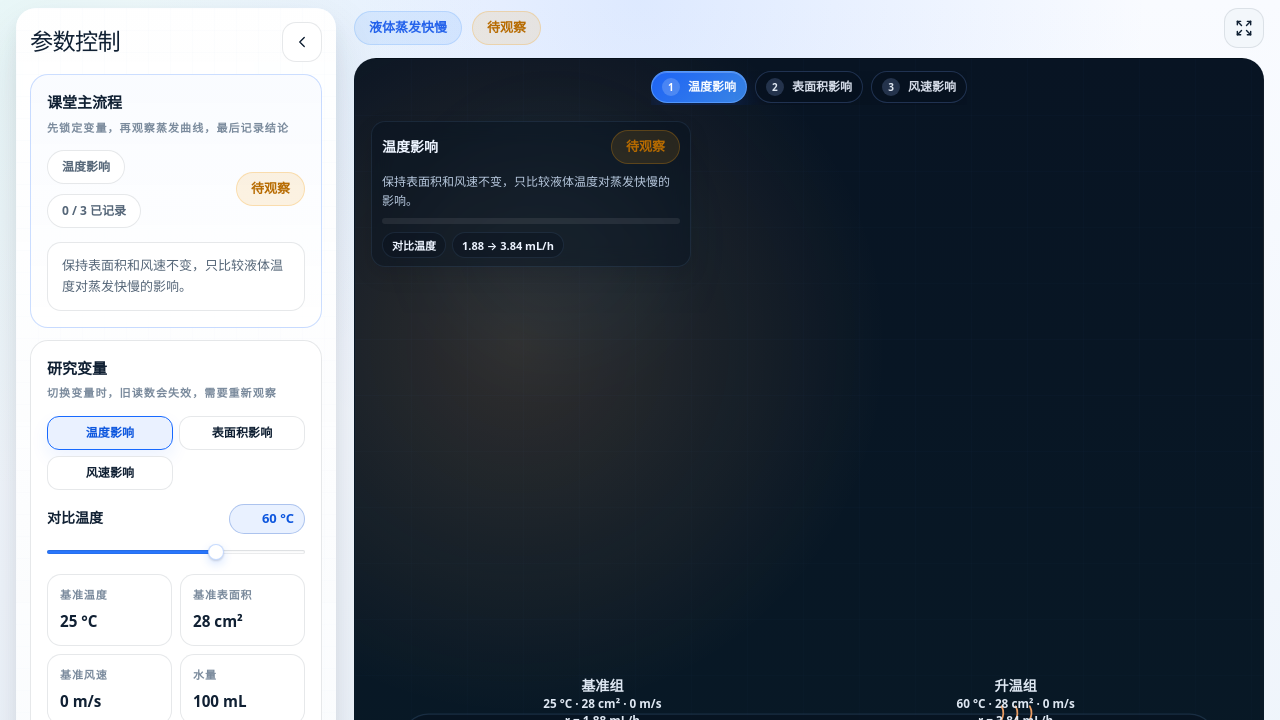
EvaporationRateLab › switches to the wind study and keeps the other conditions fixed
This screenshot has width=1280, height=720.
Click the button "风速影响".
click(110, 473)  # box 47,456 -> 173,490
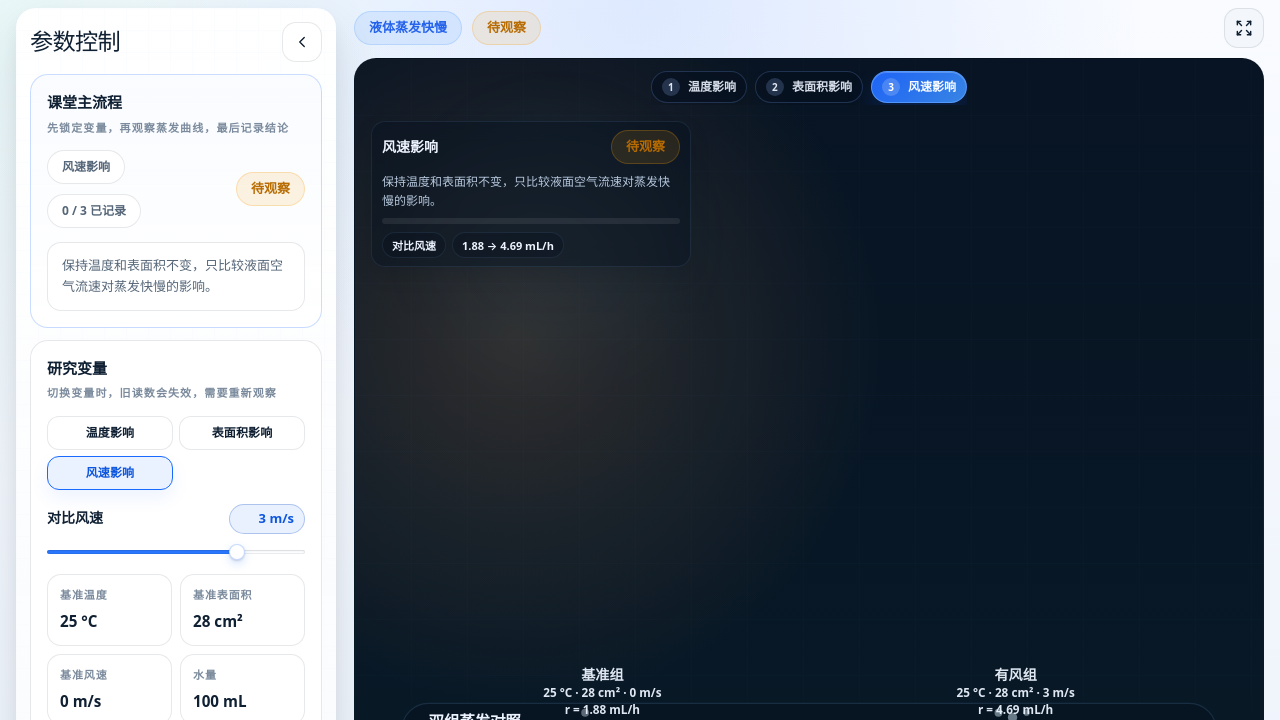
Expected: the text "25 °C" is shown, 60,611 -> 98,631
Result: the slider labelled "对比风速" holds "3" at 47,544 -> 305,560
